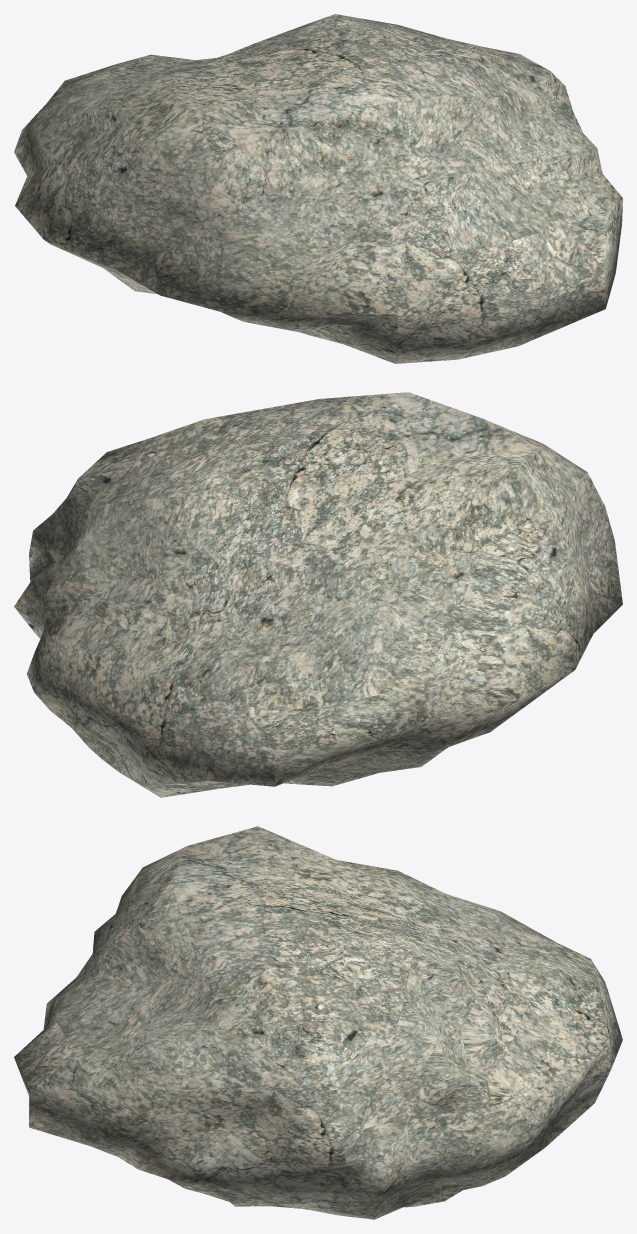
File: beach-rock.glb
The picture shows the model from 3 angles, top to bottom: view 1: azimuth 30°, elevation 25°; view 2: azimuth 150°, elevation 25°; view 3: azimuth 270°, elevation 25°; orthographic projection. The views are drawn at different scales.
Visible parts, largest first — view 1: $ColladaAutoName$_0; view 2: $ColladaAutoName$_0; view 3: $ColladaAutoName$_0.
Part boxes in pixels (<box>): $ColladaAutoName$_0: <box>14,14,622,363</box>; $ColladaAutoName$_0: <box>14,392,622,797</box>; $ColladaAutoName$_0: <box>14,826,622,1219</box>.
Size of the model in its own units: 4.98 by 2.52 by 5.38.
Materials: 1 (1 with a texture image).
